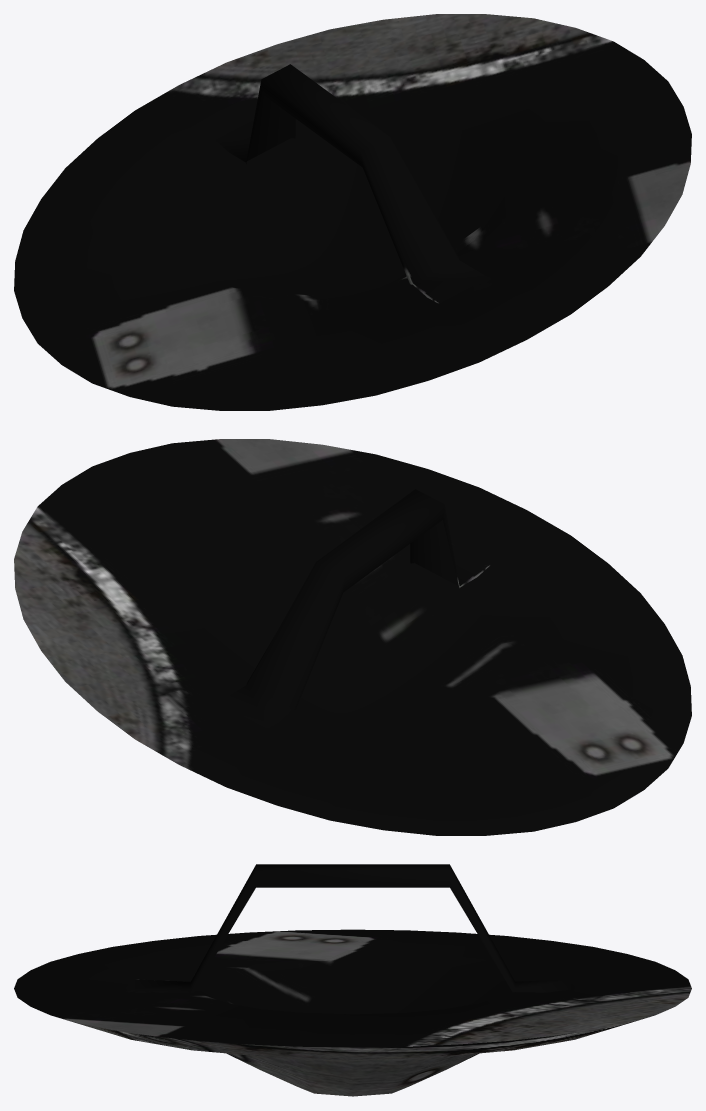
The picture shows the model from 3 angles, top to bottom: view 1: azimuth 30°, elevation 25°; view 2: azimuth 150°, elevation 25°; view 3: azimuth 270°, elevation 25°; orthographic projection. The views are drawn at different scales.
Visible parts, largest first — view 1: mesh_0; view 2: mesh_0; view 3: mesh_0.
Boxes of the visible parts, x1=… form: mesh_0: x1=14, y1=14, x2=691, y2=410; mesh_0: x1=14, y1=439, x2=691, y2=835; mesh_0: x1=14, y1=864, x2=691, y2=1096.
Bounding box in the file's own units: 14.27 × 5.11 × 14.77.
1 material, 1 textured.
